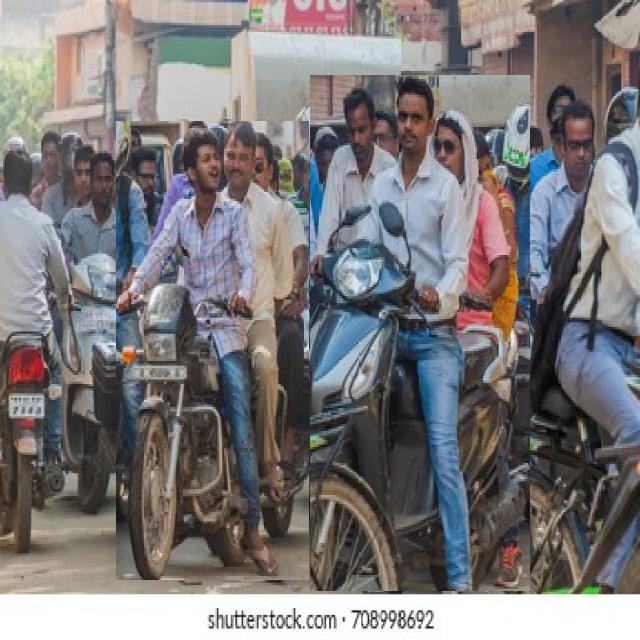motorcycle: (310, 76, 530, 591), (116, 121, 309, 580)
